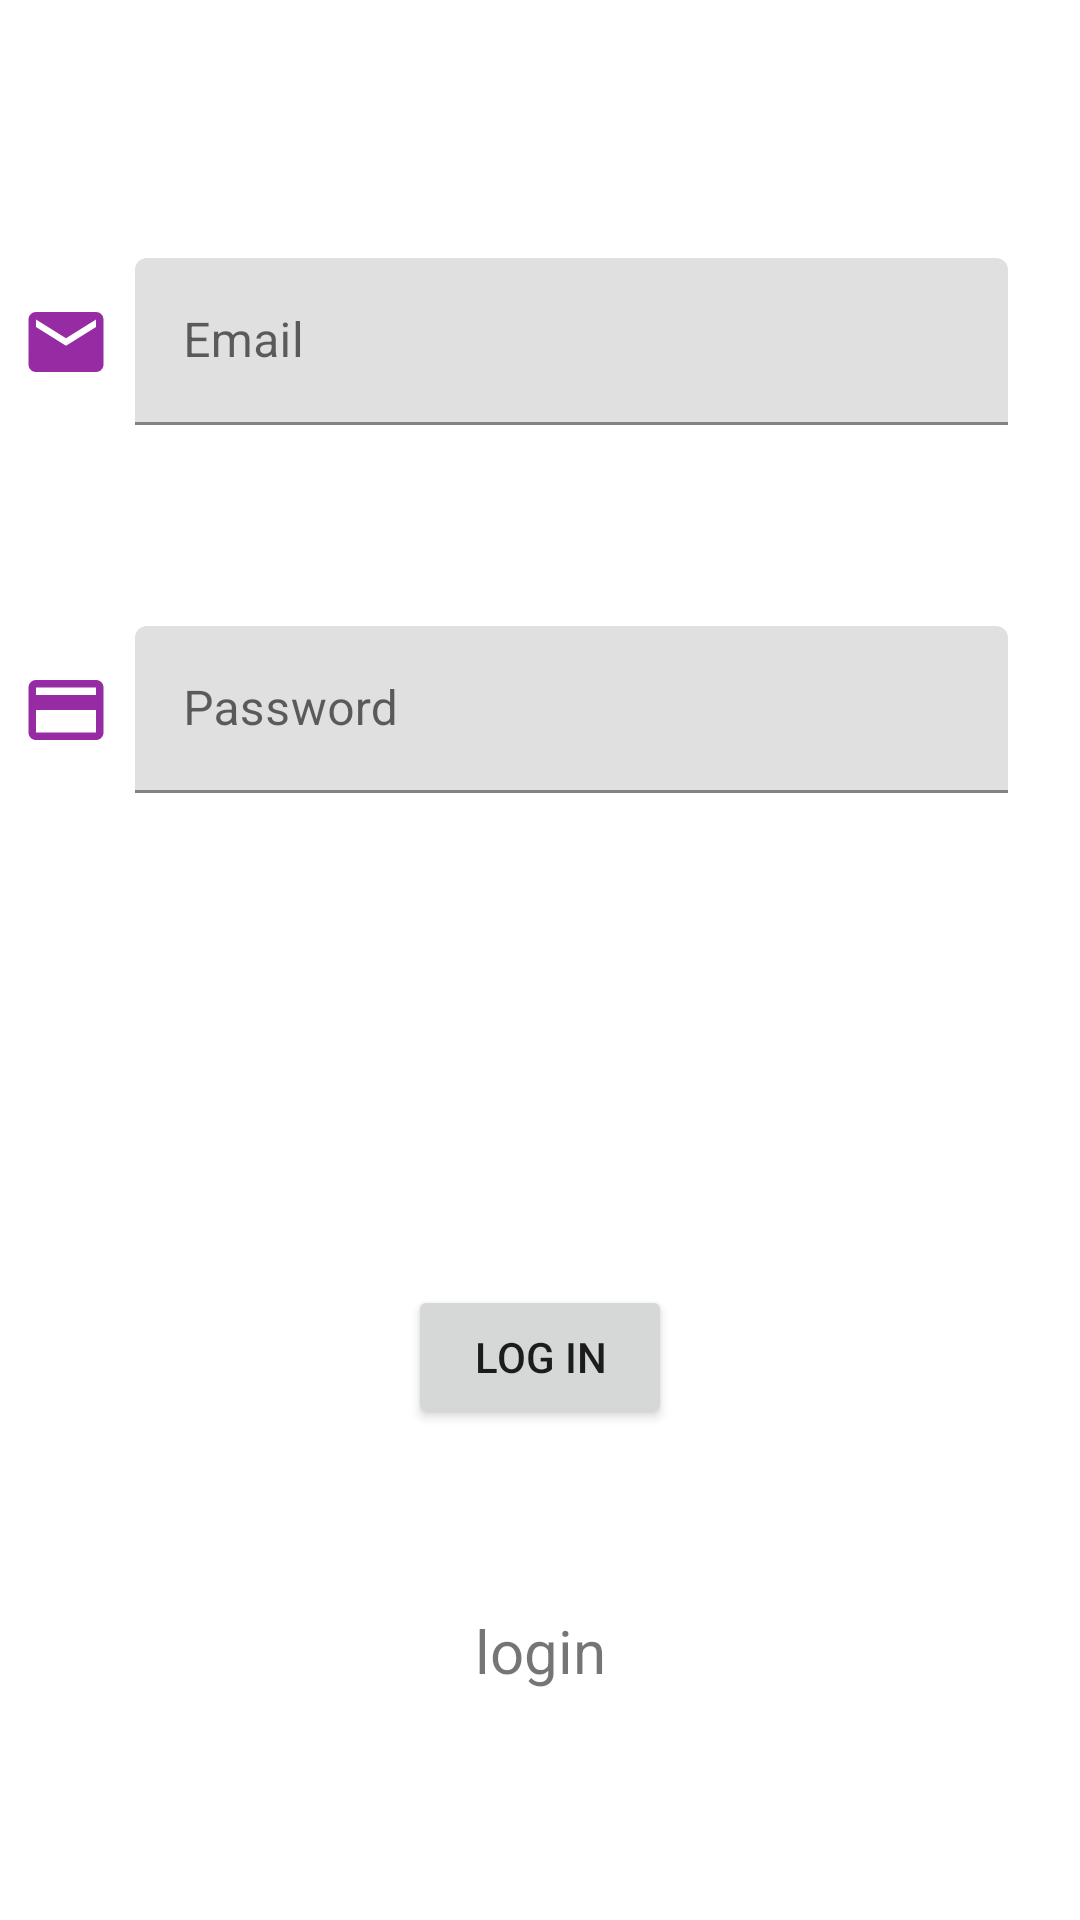

Where icons sit on this 1080x1920 app screen, as (x1, y1, x2, y2):
credit card: (28, 680, 104, 740)
